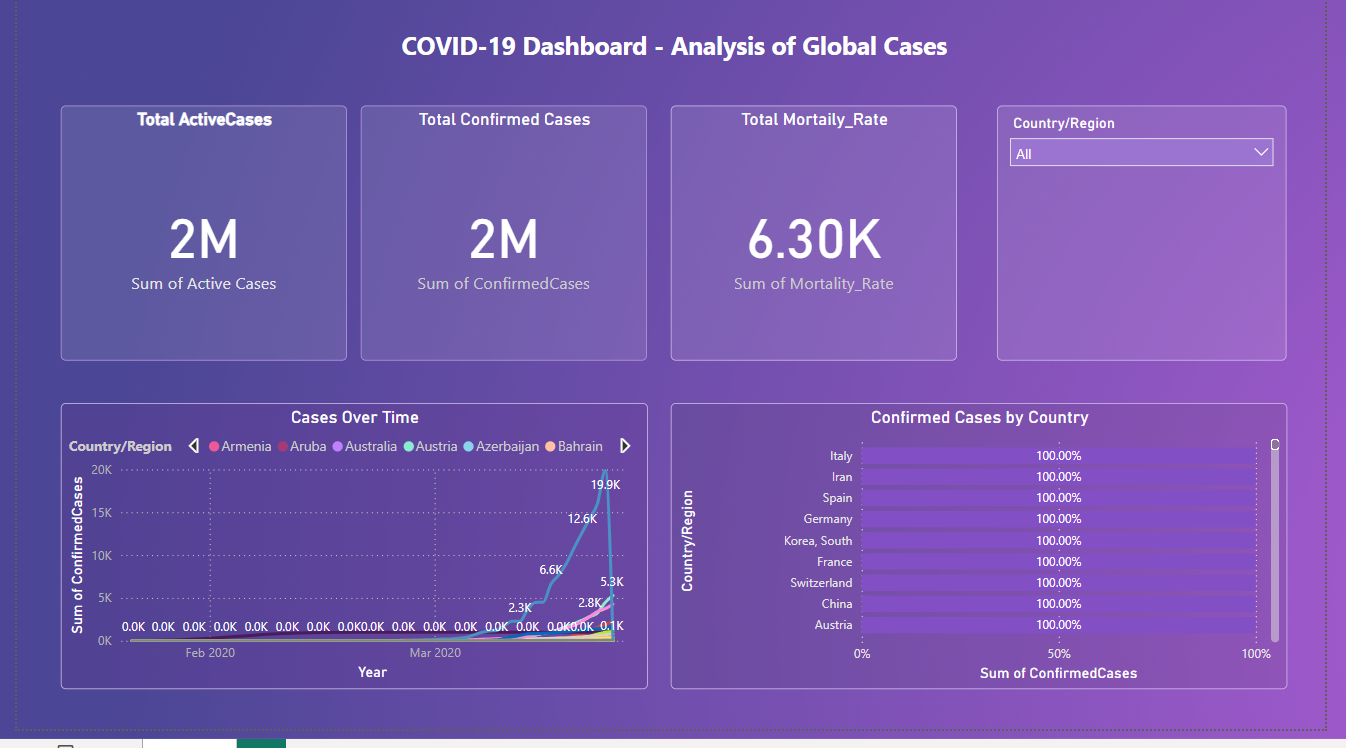

This screenshot's page, from the dashboard's own definition file:
{"tool":"powerbi","page":{"name":"Page 1","canvas":[1280,720],"ordinal":0},"visuals":[{"type":"card","title":"Total ActiveCases","fields":{"Values":["Sum(train.Active Cases)"]},"box":[42.2,109.8,279.9,249.7],"z":0},{"type":"card","title":"Total Confirmed Cases","fields":{"Values":["Sum(train.ConfirmedCases)"]},"box":[336.6,109.8,279.9,249.7],"z":1000},{"type":"card","title":"Total Mortaily_Rate","fields":{"Values":["Sum(train.Mortality_Rate)"]},"box":[639.4,109.8,279.9,249.7],"z":2000},{"type":"lineChart","title":"Cases Over Time","fields":{"Y":["Sum(train.ConfirmedCases)"],"Series":["train.Country/Region"],"Category":["train.Date.Variation.Date Hierarchy.Year","train.Date.Variation.Date Hierarchy.Quarter","train.Date.Variation.Date Hierarchy.Month","train.Date.Variation.Date Hierarchy.Day"]},"box":[42.2,400.5,574.3,279.9],"z":3000},{"type":"hundredPercentStackedBarChart","title":"Confirmed Cases by Country","fields":{"Category":["train.Country/Region"],"Y":["Sum(train.ConfirmedCases)"]},"box":[639.4,400.5,603.2,279.9],"z":4000},{"type":"slicer","fields":{"Values":["train.Country/Region"]},"box":[959.1,109.8,283.5,249.7],"z":5000},{"type":"textbox","box":[42.2,30.2,1200.4,63.9],"z":6000}]}

Visuals, with their boxes in screenshot pixels (x1, y1, x2, y2), scaled from the page's 1280x720 canvas onto the 1346x748 screenshot:
"Total ActiveCases" card: <bbox>44, 114, 339, 373</bbox>
"Total Confirmed Cases" card: <bbox>354, 114, 648, 373</bbox>
"Total Mortaily_Rate" card: <bbox>672, 114, 967, 373</bbox>
"Cases Over Time" lineChart: <bbox>44, 416, 648, 707</bbox>
"Confirmed Cases by Country" hundredPercentStackedBarChart: <bbox>672, 416, 1307, 707</bbox>
slicer - train.Country/Region: <bbox>1009, 114, 1307, 373</bbox>
textbox: <bbox>44, 31, 1307, 98</bbox>
